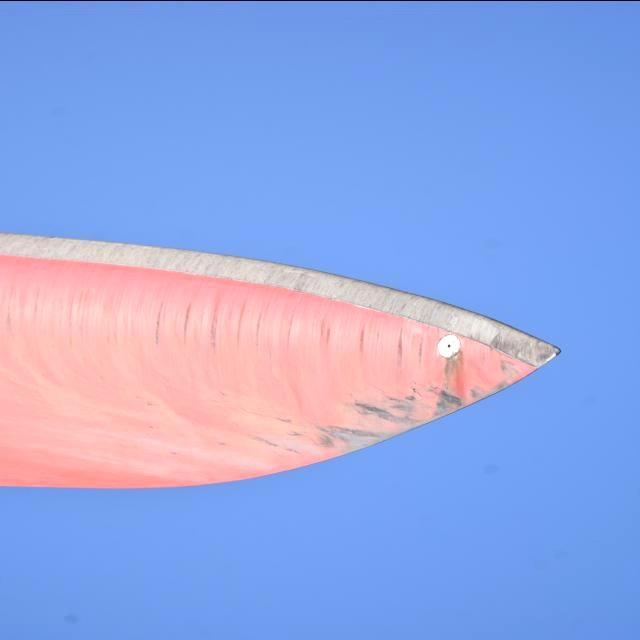Coating_defects: (366, 388, 470, 432), (327, 427, 383, 457)
